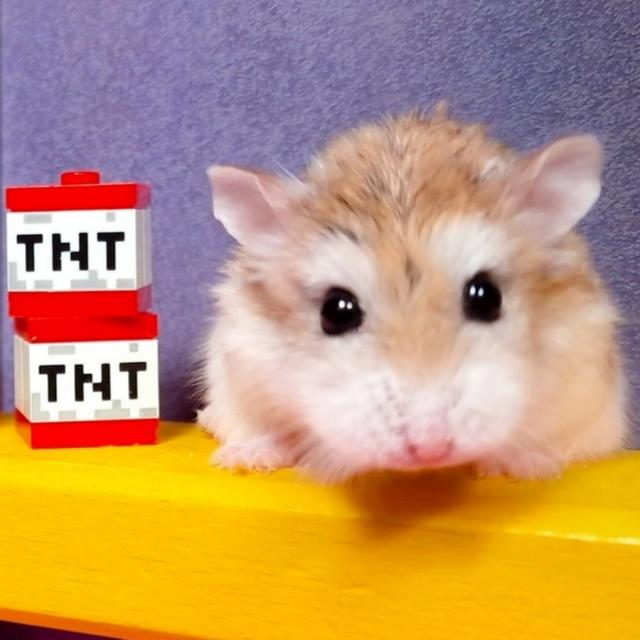hamster: (196, 103, 636, 485)
